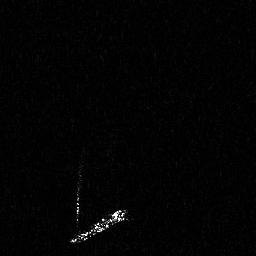ship: (68, 206, 128, 246), (72, 171, 80, 223)
